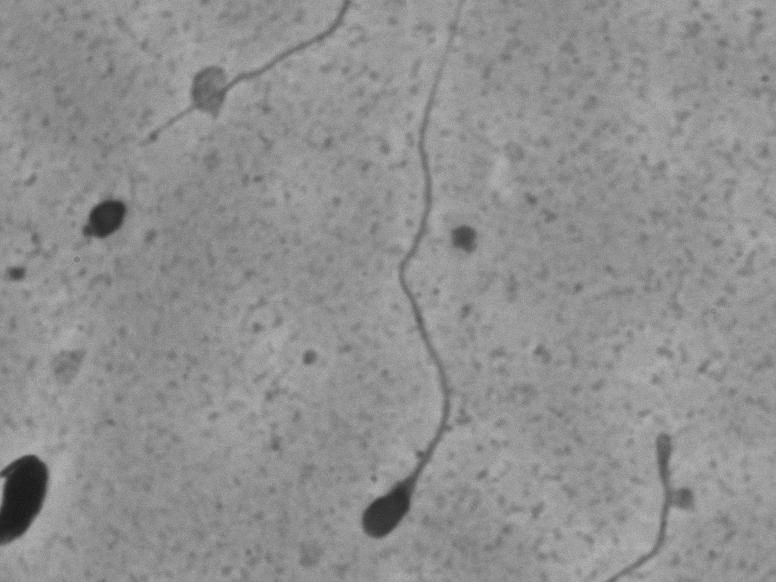Abnormal: (342, 26, 496, 553)
